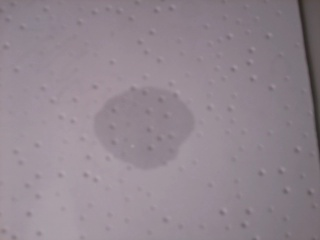Water_detected: (104, 87, 184, 160)
